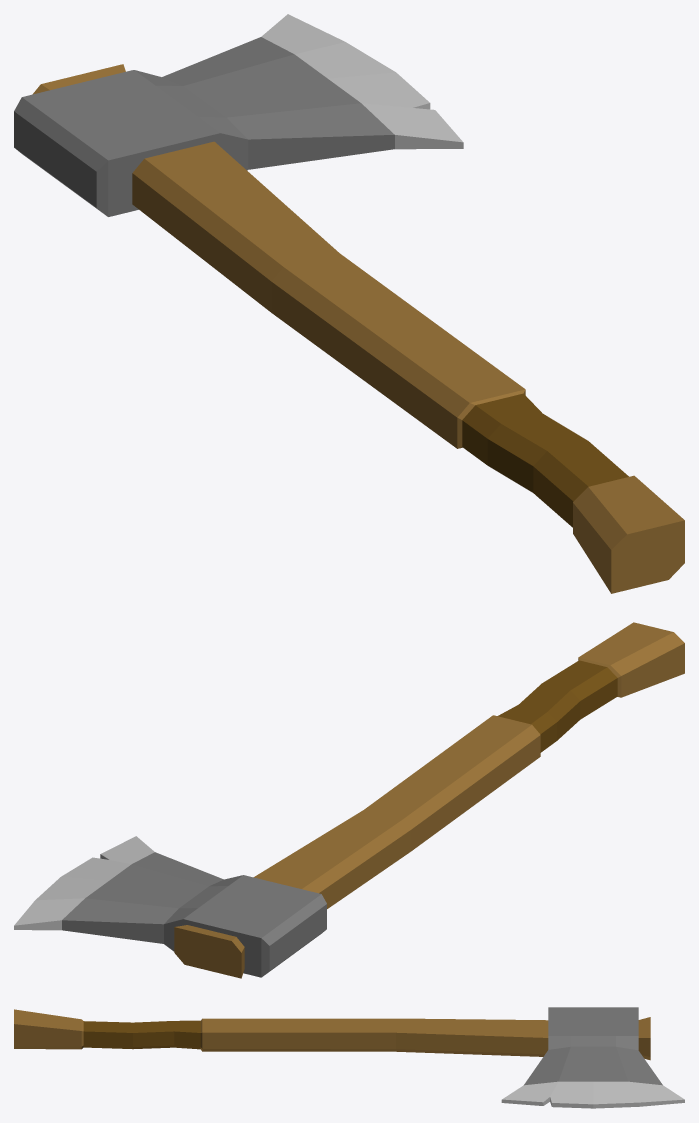
File: Stone_Axe.fbx
3 renders of one model, top to bottom at view 1: azimuth 30°, elevation 25°; view 2: azimuth 150°, elevation 25°; view 3: azimuth 270°, elevation 25°, orthographic. The views are drawn at different scales.
Visible parts, largest first — view 1: Obj_Stone_Axe; view 2: Obj_Stone_Axe; view 3: Obj_Stone_Axe.
Part boxes in pixels (x1,y1,x2,y2): Obj_Stone_Axe: (14, 14, 684, 593); Obj_Stone_Axe: (14, 622, 684, 978); Obj_Stone_Axe: (14, 1007, 684, 1108).
Size of the model in its own units: 25.03 by 3.98 by 81.81.
